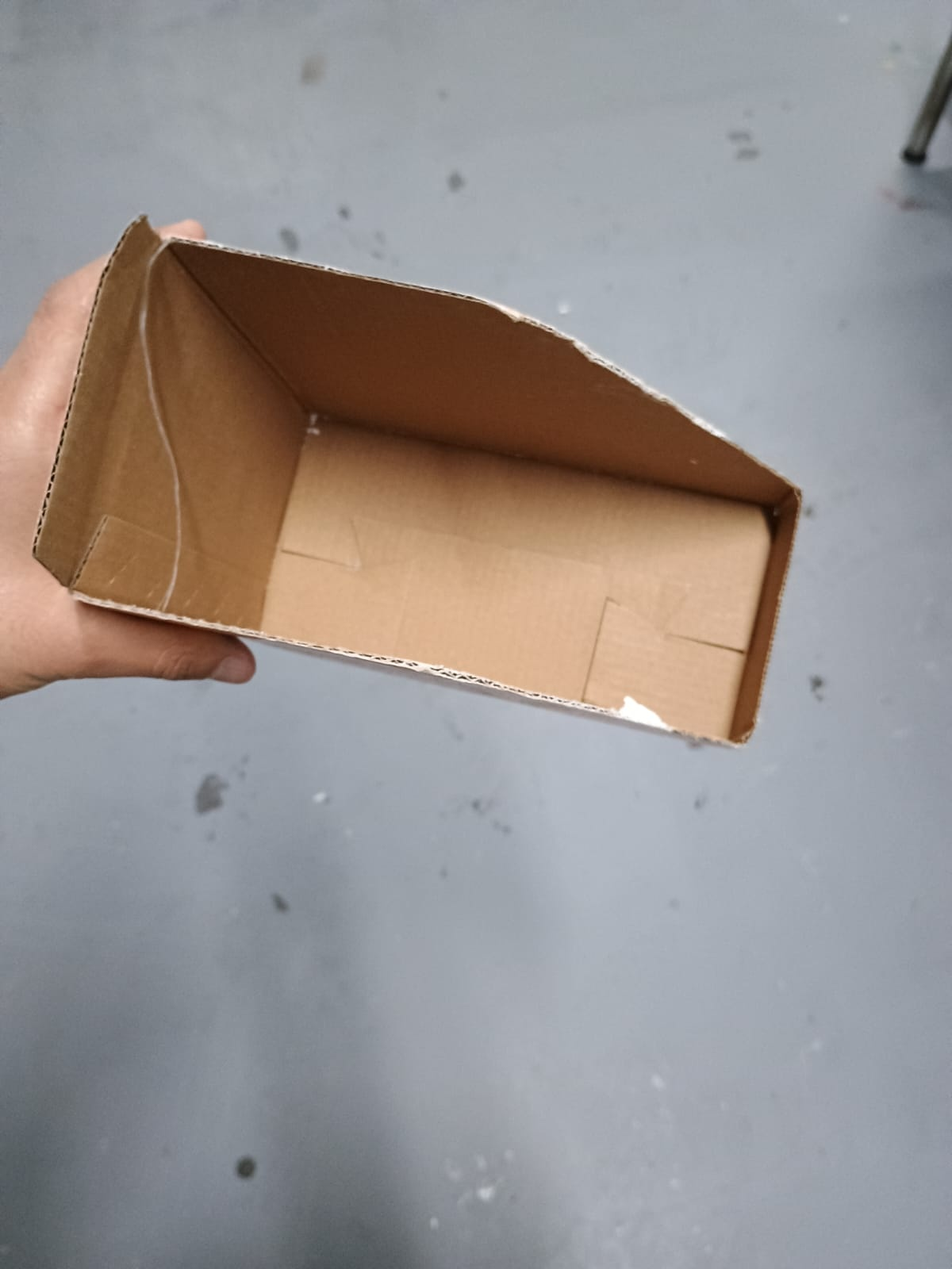Carton: (35, 218, 800, 743)
